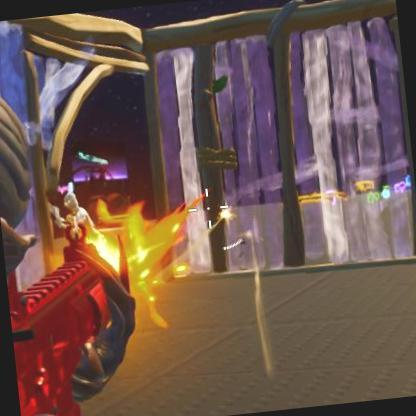person: (55, 196, 90, 240)
